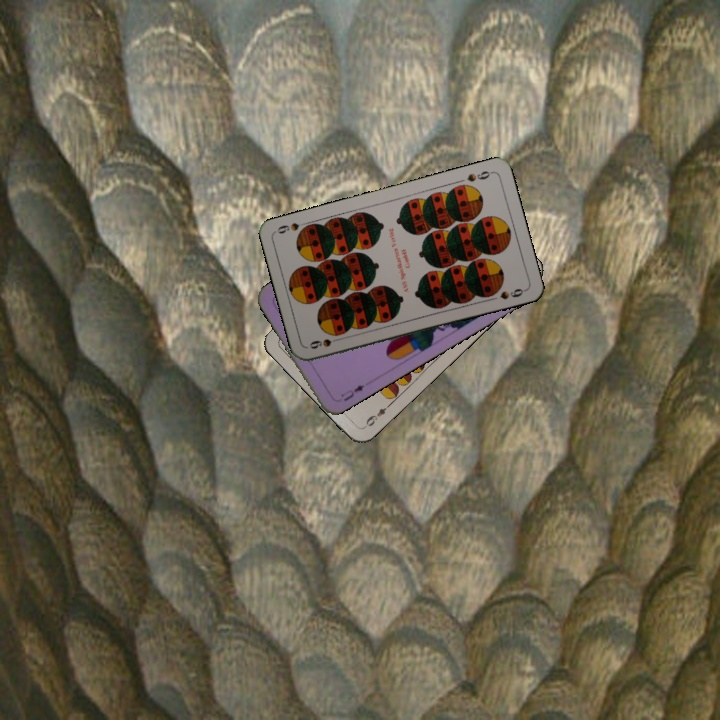E9: (360, 400, 393, 431)
EU: (337, 380, 367, 404)
S9: (305, 333, 345, 351), (463, 167, 495, 184)
